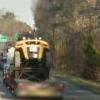Tractor: (5, 26, 59, 96)
